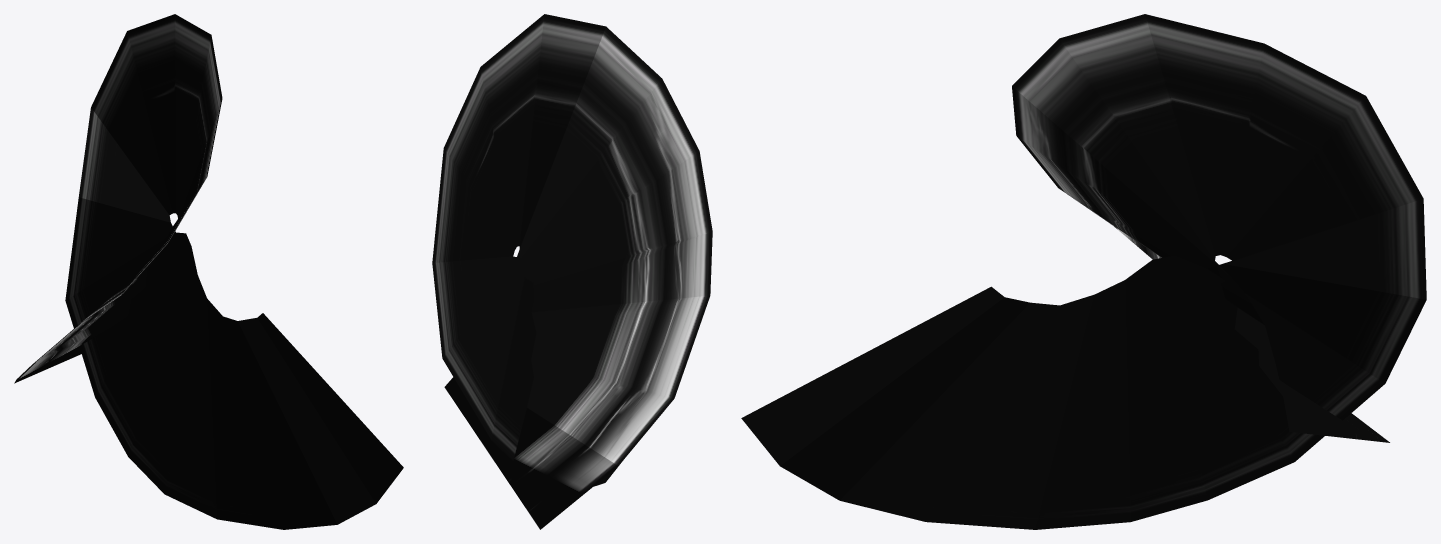
The model's file is zhaoyun_02_guiji.fbx.
3 views of the same model, side by side, from view 1: azimuth 30°, elevation 25°; view 2: azimuth 150°, elevation 25°; view 3: azimuth 270°, elevation 25° (orthographic). The views are drawn at different scales.
Visible parts, largest first — view 1: guiji123; view 2: guiji123; view 3: guiji123.
Part boxes in pixels (box(x1,y1,x2,y2)): guiji123: box(14, 14, 403, 529); guiji123: box(432, 14, 712, 529); guiji123: box(741, 14, 1426, 529).
Size of the model in its own units: 2231 by 4980 by 5735.
